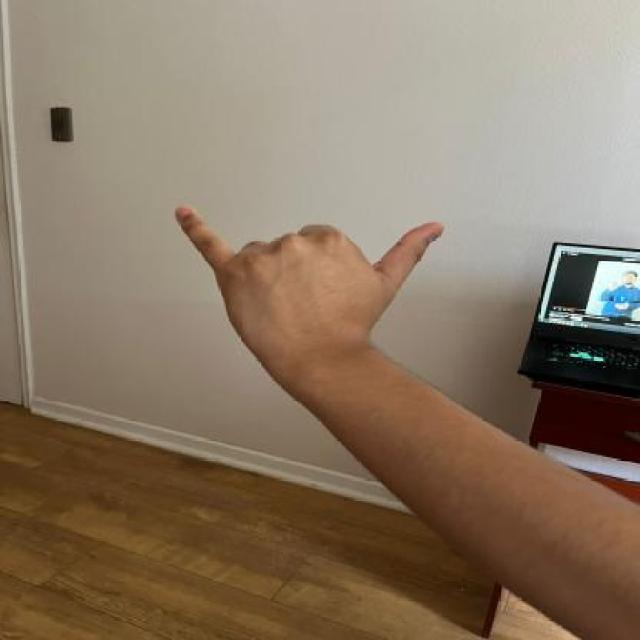Y: (168, 195, 447, 363)
